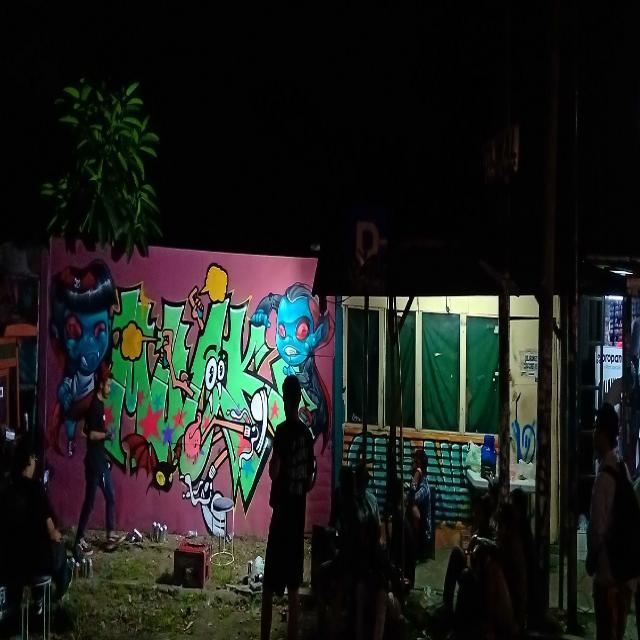-: (45, 258, 330, 514), (345, 429, 480, 532), (510, 421, 538, 468)
